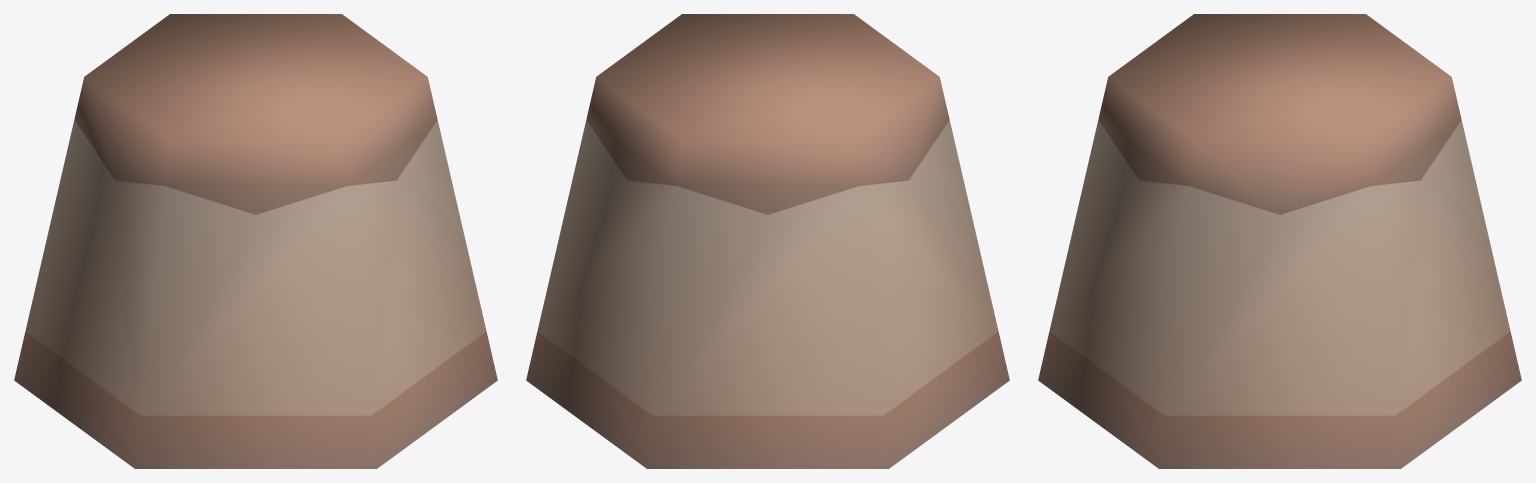
The model's file is pudding.glb.
3 renders of one model, left to right at view 1: azimuth 30°, elevation 25°; view 2: azimuth 150°, elevation 25°; view 3: azimuth 270°, elevation 25°, orthographic.
Visible parts, largest first — view 1: pudding; view 2: pudding; view 3: pudding.
Part boxes in pixels (<box>): pudding: <box>14,14,497,468</box>; pudding: <box>526,14,1009,468</box>; pudding: <box>1038,14,1521,468</box>.
Size of the model in its own units: 0.2499 by 0.1998 by 0.2886.
